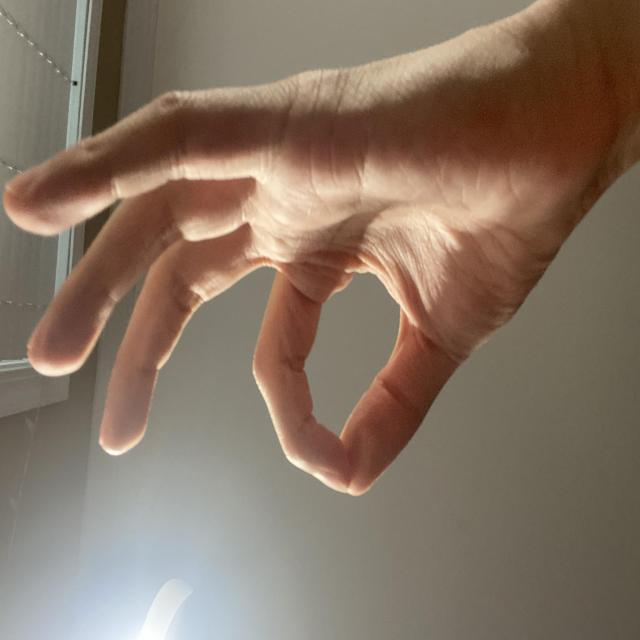F: (102, 0, 480, 640)
